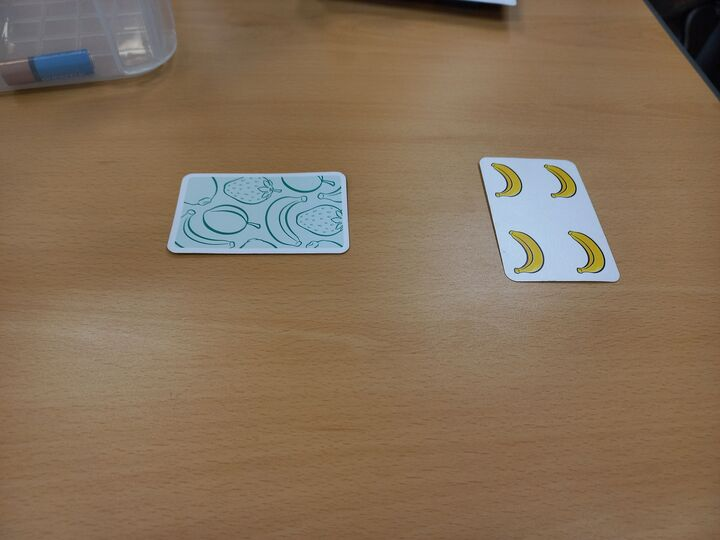banana4: (478, 153, 622, 283)
